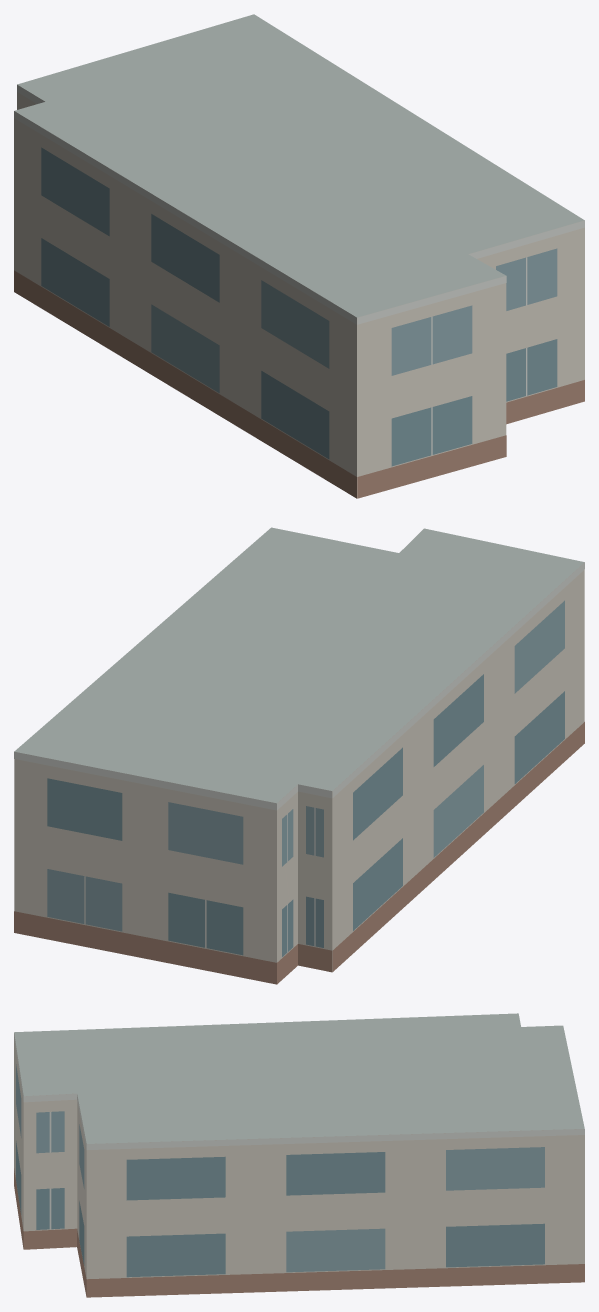
Rendered from survey-upis-32907064.glb.
The picture shows the model from 3 angles, top to bottom: view 1: azimuth 30°, elevation 25°; view 2: azimuth 150°, elevation 25°; view 3: azimuth 270°, elevation 25°; orthographic projection. The views are drawn at different scales.
Visible parts, largest first — view 1: survey-upis-32907064.tmp; view 2: survey-upis-32907064.tmp; view 3: survey-upis-32907064.tmp.
Part boxes in pixels (<box>): survey-upis-32907064.tmp: <box>14,14,584,498</box>; survey-upis-32907064.tmp: <box>14,527,584,984</box>; survey-upis-32907064.tmp: <box>14,1013,584,1297</box>.
Size of the model in its own units: 11.15 by 6.1 by 20.57.
